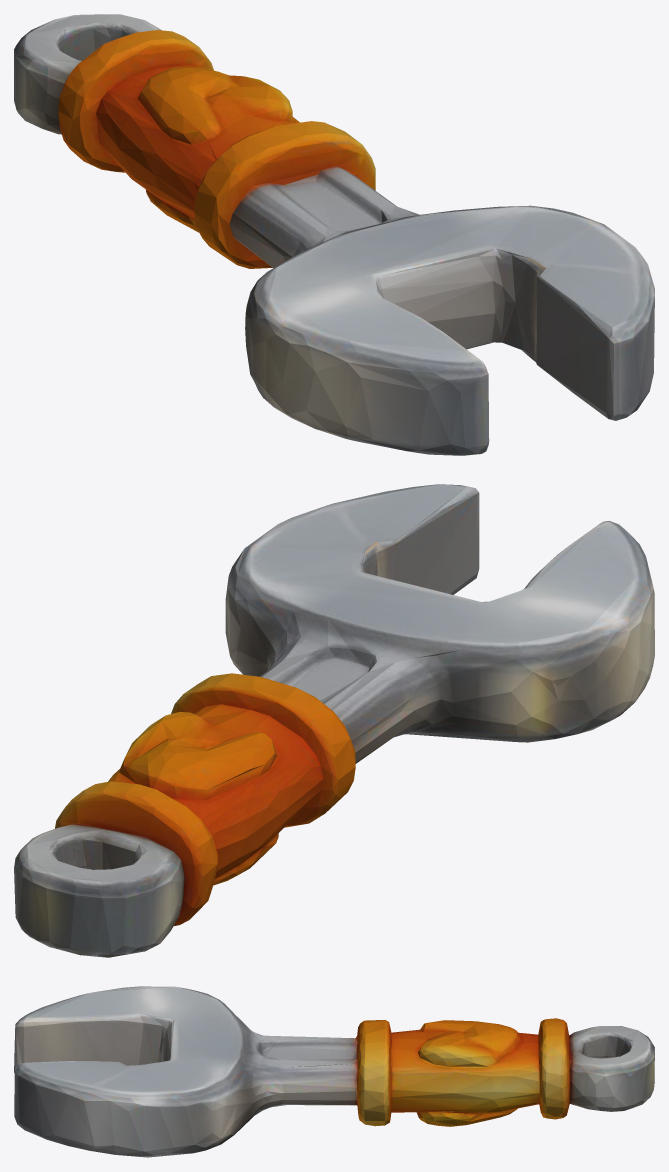
The model's file is hubcap.glb.
The picture shows the model from 3 angles, top to bottom: view 1: azimuth 30°, elevation 25°; view 2: azimuth 150°, elevation 25°; view 3: azimuth 270°, elevation 25°; orthographic projection. The views are drawn at different scales.
Parts seen in each view (by area): view 1: geometry_0; view 2: geometry_0; view 3: geometry_0.
Boxes of the visible parts, x1=… form: geometry_0: x1=14, y1=14, x2=654, y2=455; geometry_0: x1=14, y1=484, x2=654, y2=957; geometry_0: x1=14, y1=986, x2=654, y2=1157.
Bounding box in the file's own units: 0.4309 × 0.15 × 0.9996.
1 material, 1 textured.
